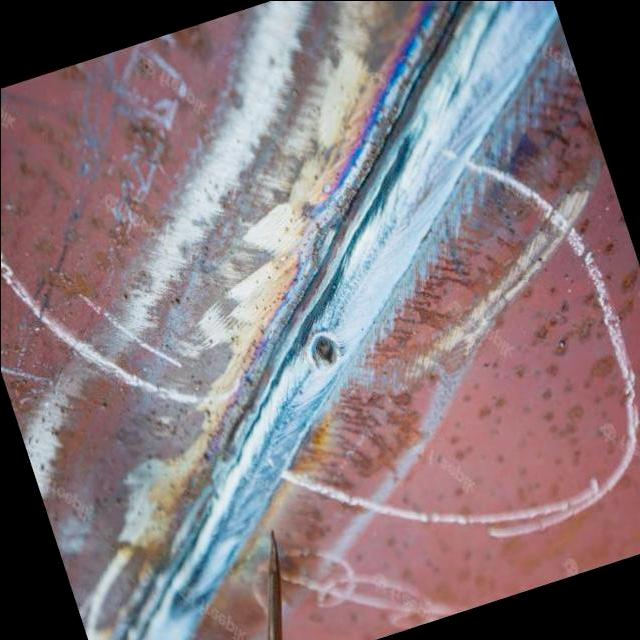defect: (308, 330, 341, 369)
